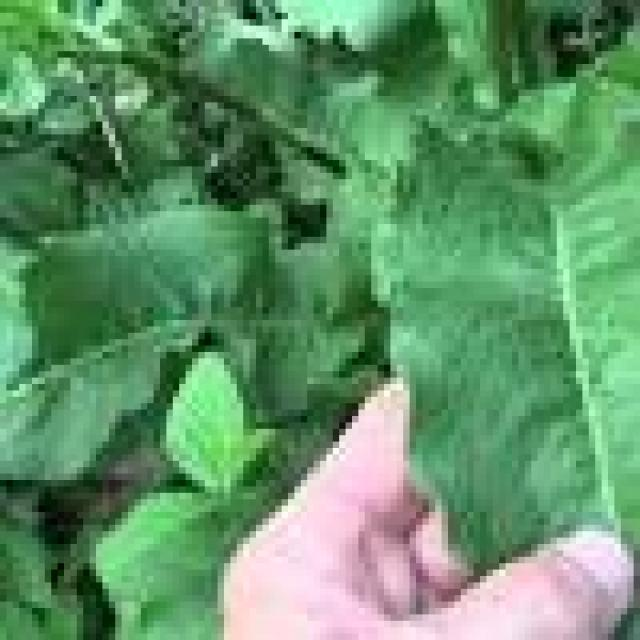organic waste: (313, 38, 640, 460)
